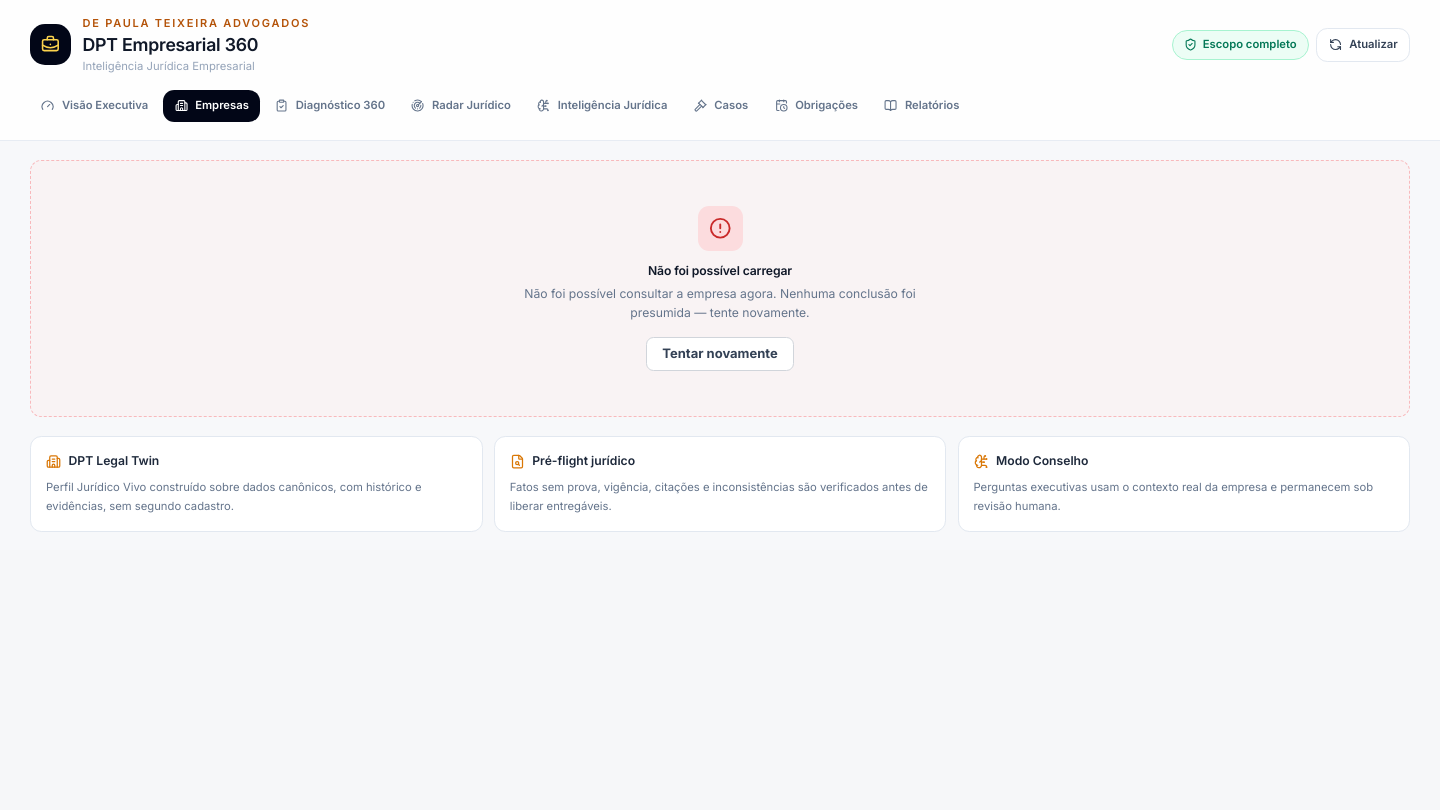
Test: Dpt360Workspace — Empresa 360 fora do teto do dashboard › distingue falha de rede/servidor de empresa inexistente, e permite tentar novamente
Check: the text "Não foi possível consultar a empresa agora" is shown, box [524,286,916,320]
Click the button "Tentar novamente" at (720, 354), box [646,337,794,371]
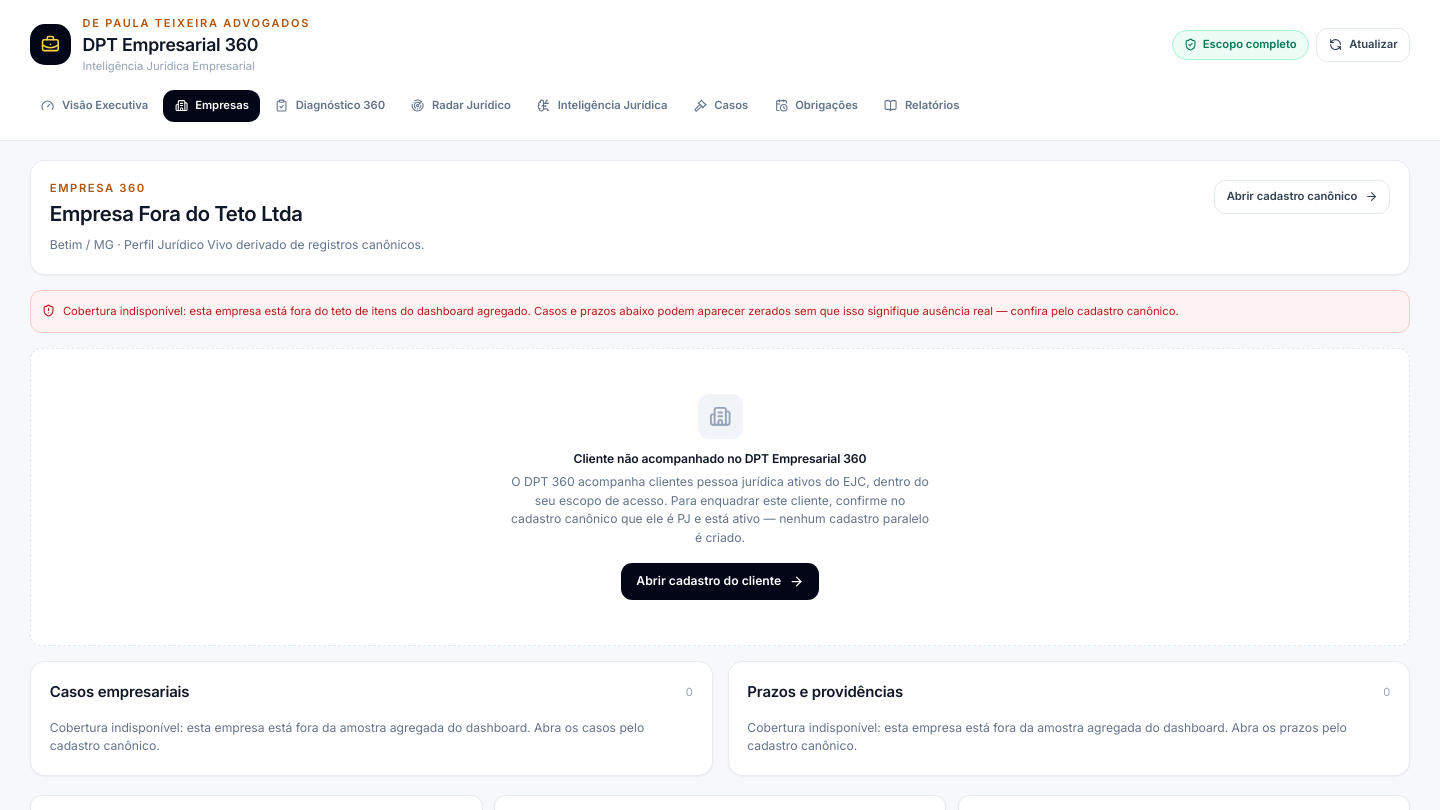
Check: the heading "Empresa Fora do Teto Ltda" is shown, box [50,201,303,226]
